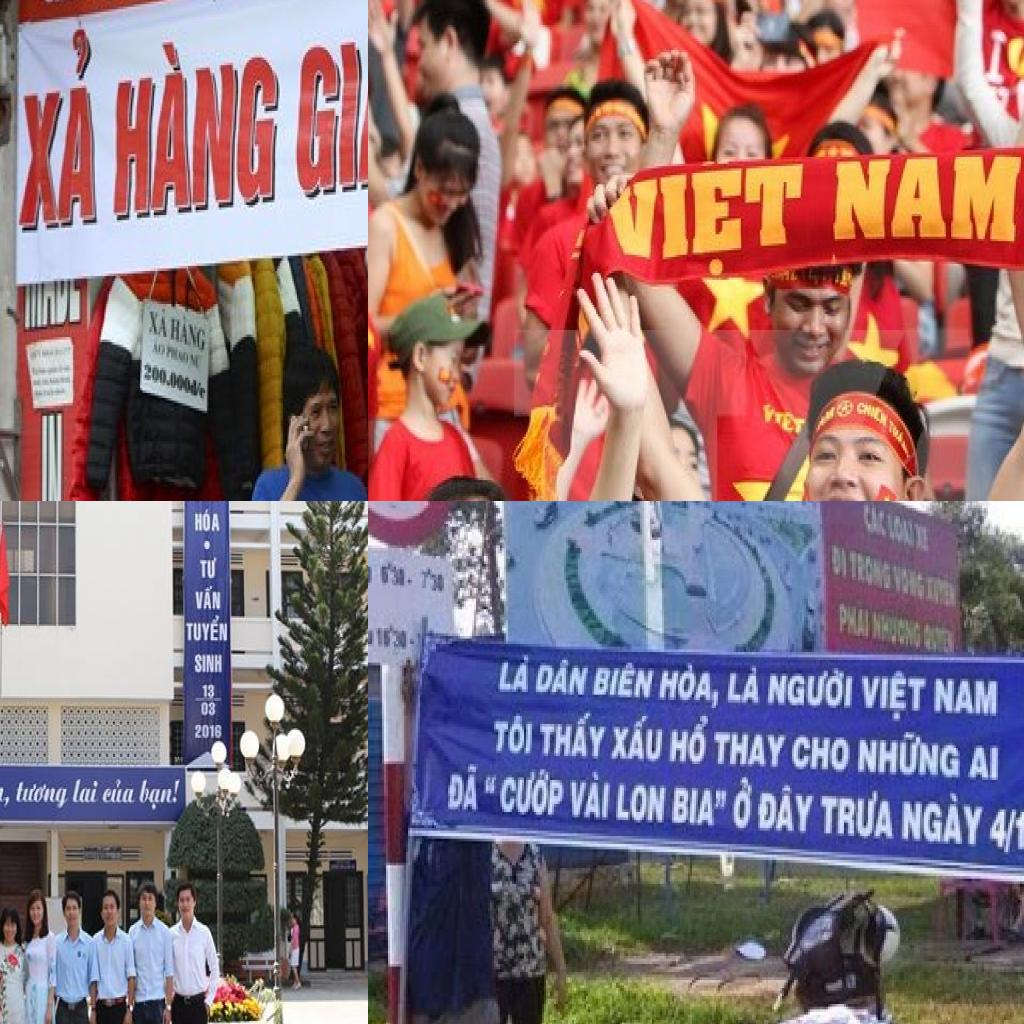text: (110, 30, 282, 230), (599, 162, 811, 284), (830, 148, 1024, 248), (19, 22, 103, 235), (294, 0, 368, 207), (854, 727, 970, 785), (898, 788, 992, 852), (816, 783, 900, 849), (484, 762, 568, 826), (764, 665, 860, 719), (860, 666, 932, 730), (538, 708, 614, 767), (754, 778, 818, 842), (932, 671, 1004, 724), (712, 726, 790, 774), (606, 714, 670, 770), (654, 666, 726, 714), (788, 727, 856, 777), (668, 780, 730, 833), (590, 660, 662, 705), (612, 775, 670, 828), (536, 652, 594, 703), (568, 767, 618, 825), (666, 713, 714, 772), (143, 360, 208, 403), (492, 708, 538, 764), (870, 607, 924, 652), (444, 759, 484, 817), (850, 545, 894, 596), (984, 801, 1024, 857), (494, 652, 536, 705), (13, 778, 71, 813), (760, 400, 808, 442), (724, 662, 766, 710), (966, 737, 1004, 788), (728, 775, 760, 833), (170, 309, 208, 357), (892, 561, 928, 607), (838, 599, 872, 644), (985, 25, 1009, 86), (186, 612, 229, 644), (926, 572, 960, 612), (854, 398, 893, 432), (376, 553, 410, 591), (888, 511, 918, 553), (862, 501, 890, 545), (100, 778, 140, 806), (418, 564, 450, 599), (376, 620, 410, 652), (71, 776, 101, 808), (832, 540, 852, 585), (193, 584, 223, 613), (148, 304, 170, 342), (193, 509, 222, 535), (914, 519, 932, 556), (194, 653, 224, 675), (198, 555, 220, 581), (0, 776, 15, 813), (194, 723, 224, 741), (368, 548, 378, 590), (200, 701, 218, 719), (368, 611, 376, 649), (152, 339, 166, 360), (202, 683, 216, 701)
